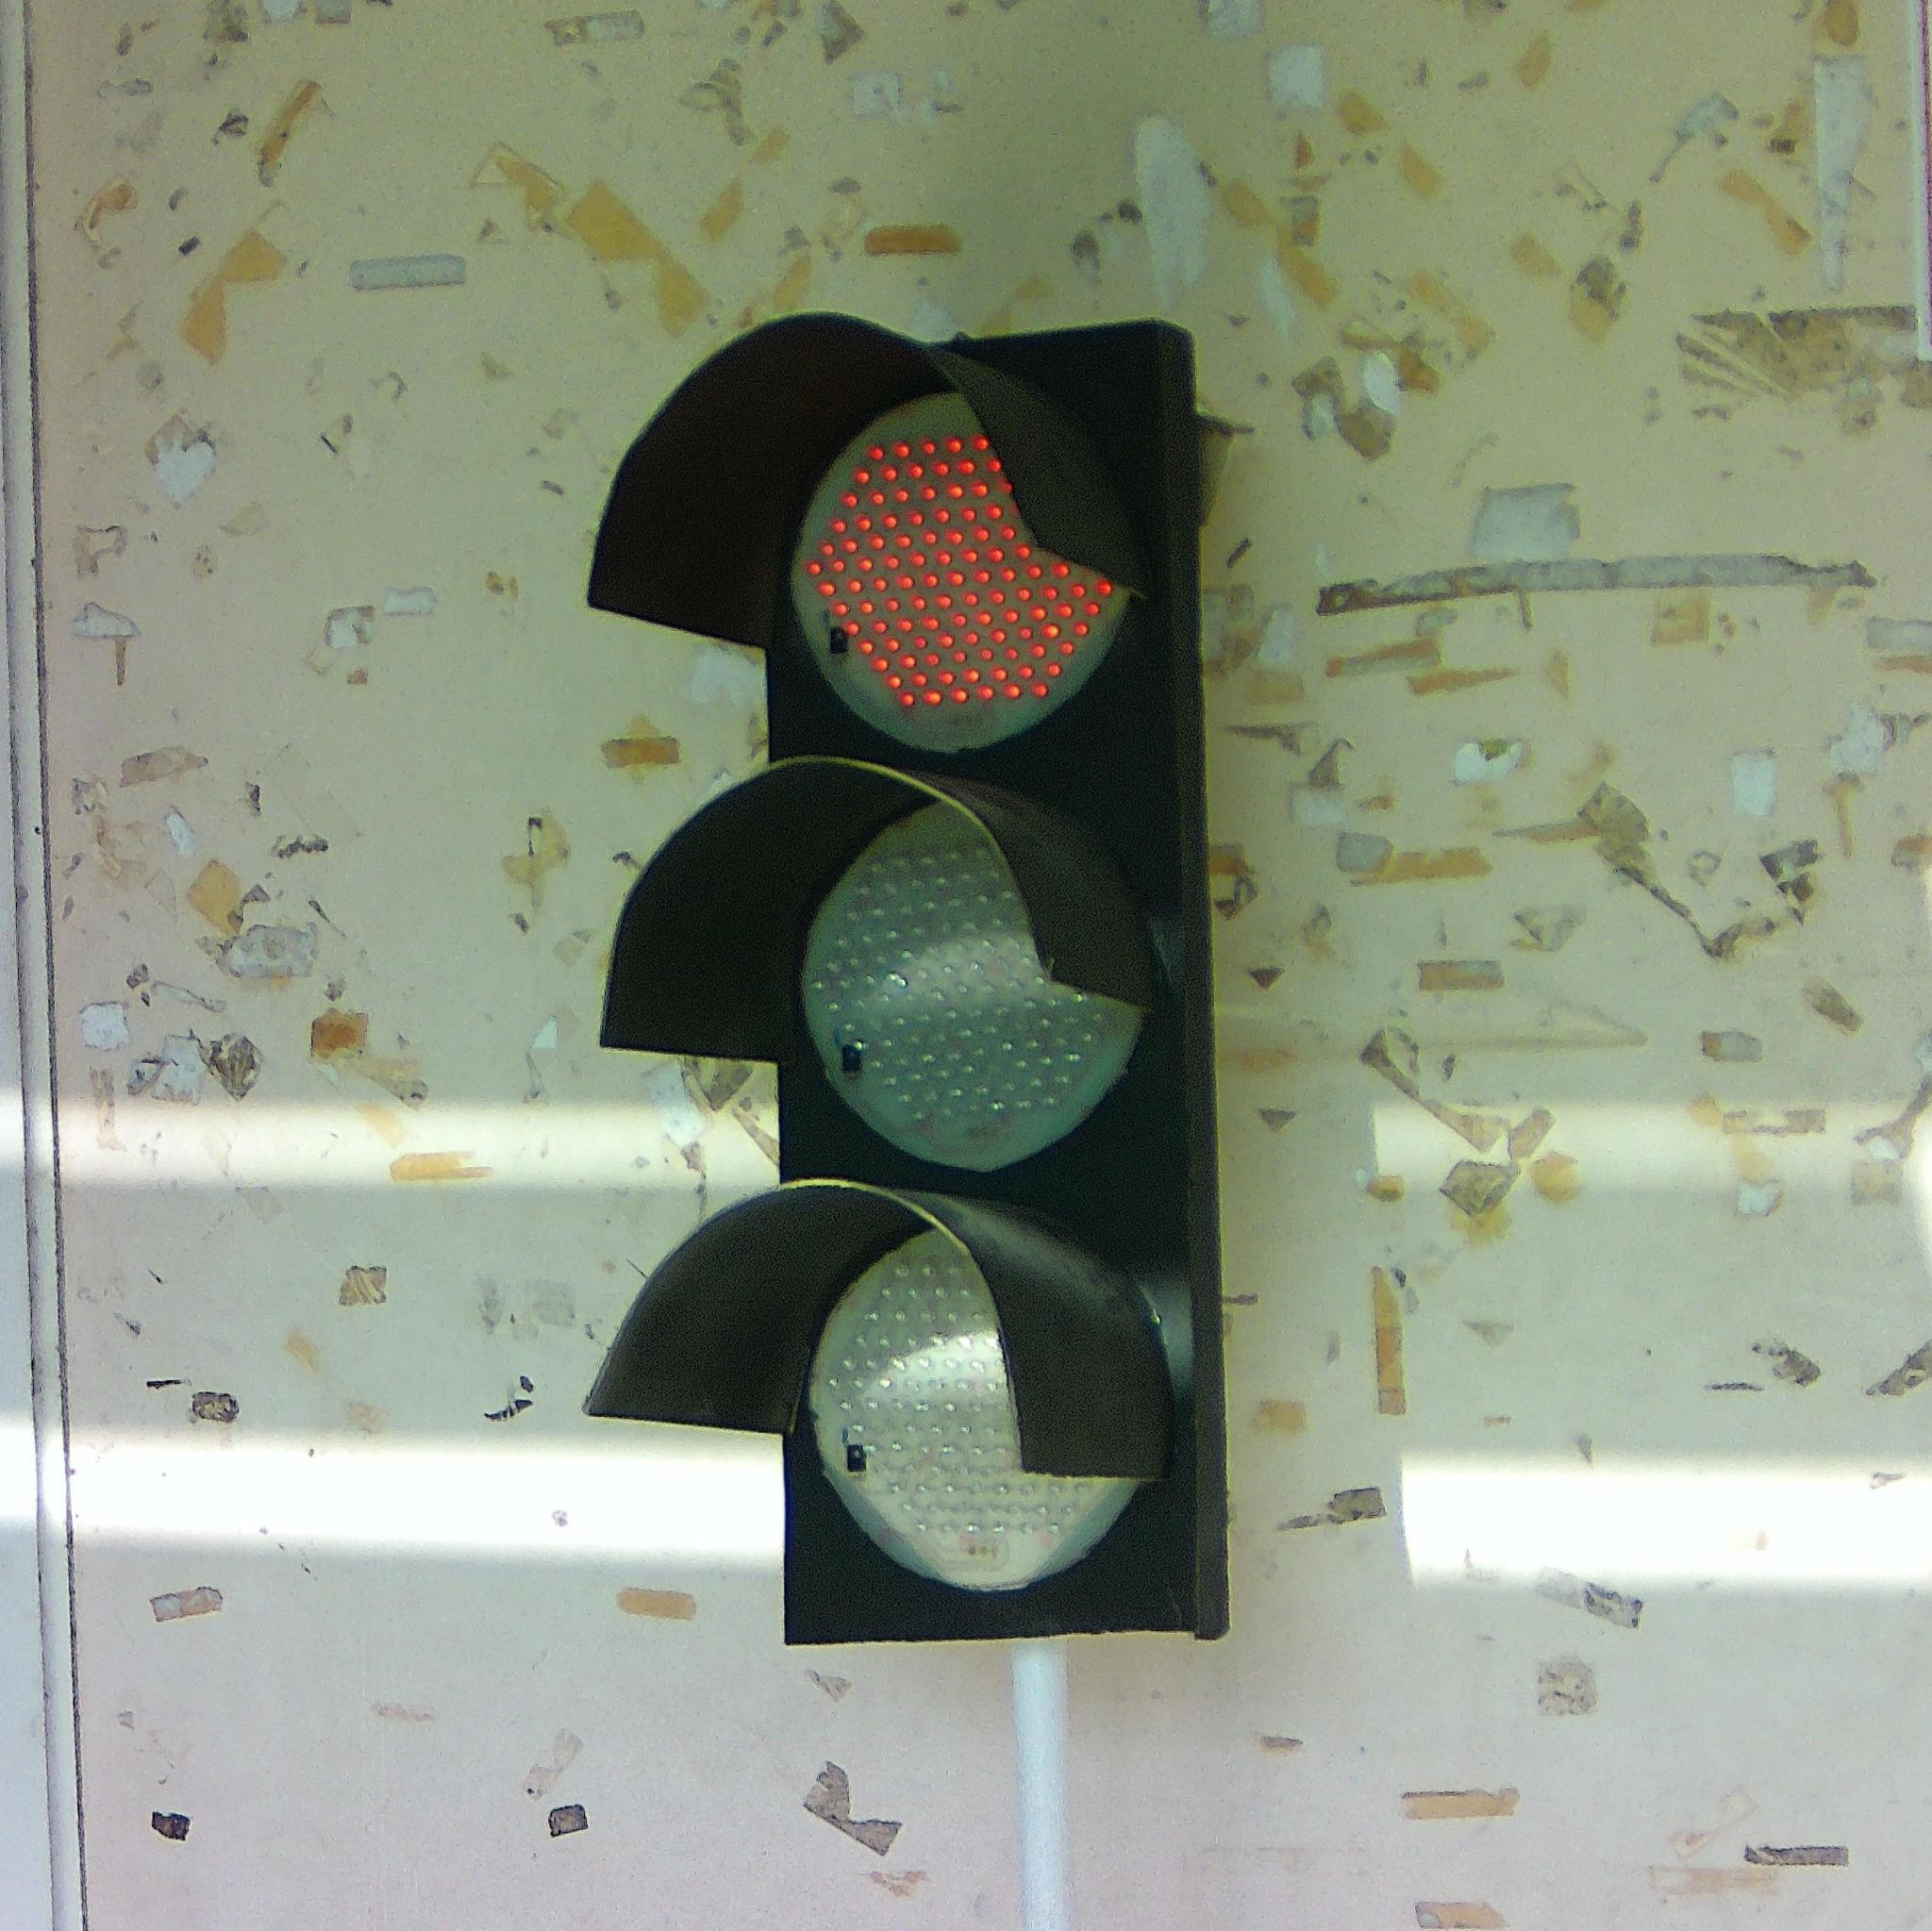red: (539, 288, 1260, 1673)
